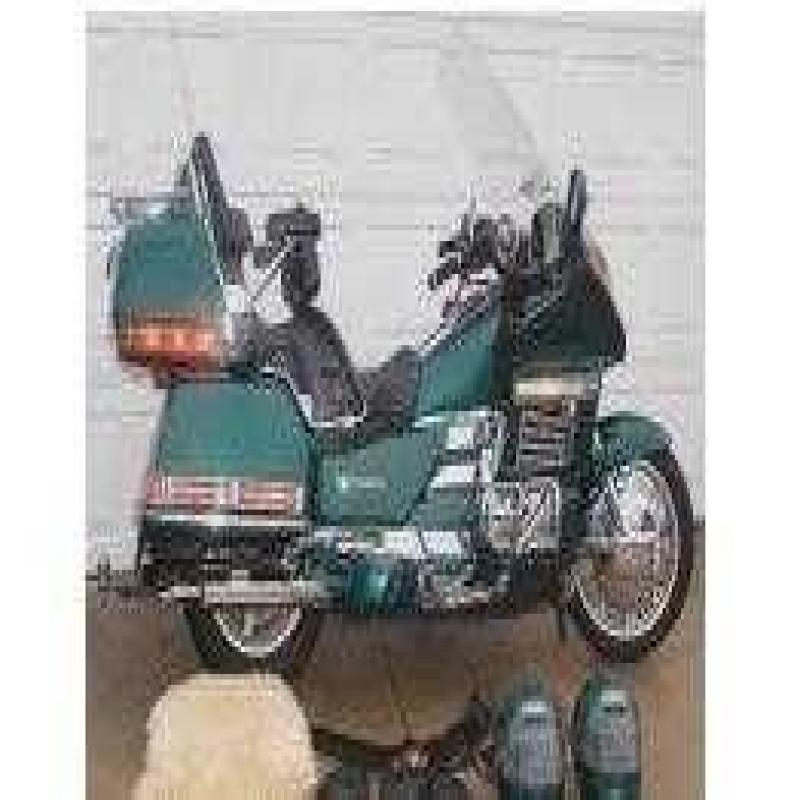bike: (84, 80, 695, 708)
